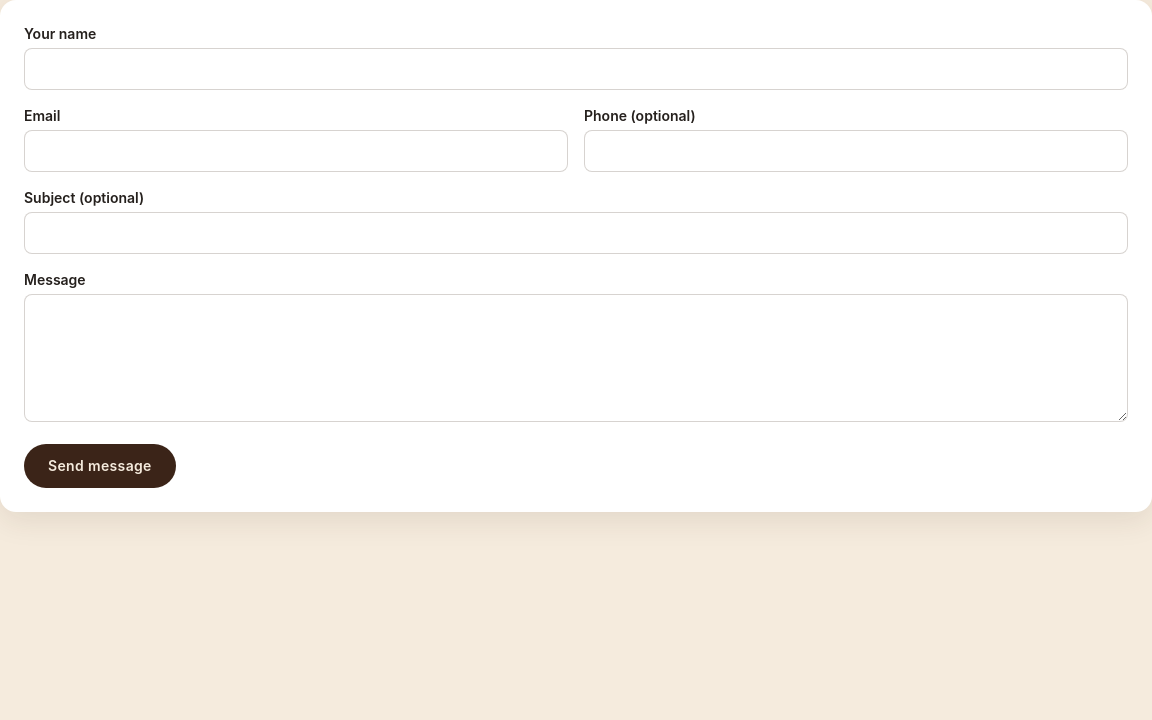
Test: contact form › shows server-side field errors and success message
The width and height of the screenshot is (1152, 720).
In the field labelled "Your name": (576, 69) left=24, top=48, right=1128, bottom=90, type "Ali Khan"
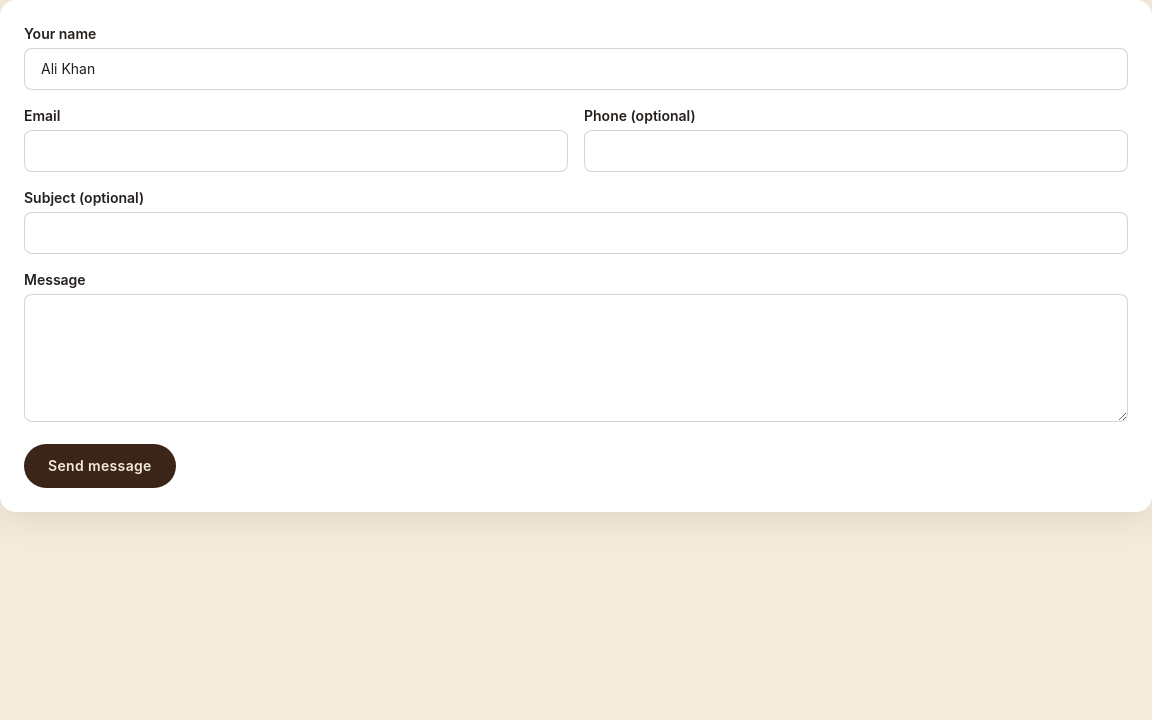
In the field labelled "Email": (296, 151) left=24, top=130, right=568, bottom=172, type "ali@example.com"
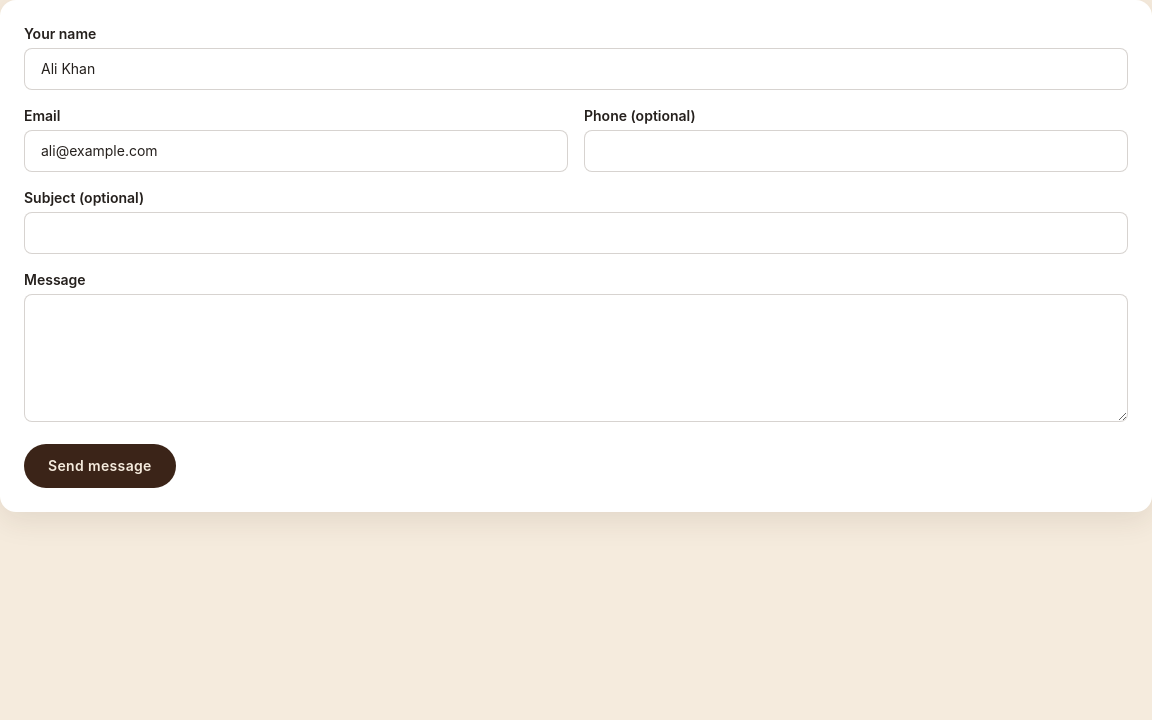
In the text box labelled "Message": (576, 358) left=24, top=294, right=1128, bottom=422, type "short"
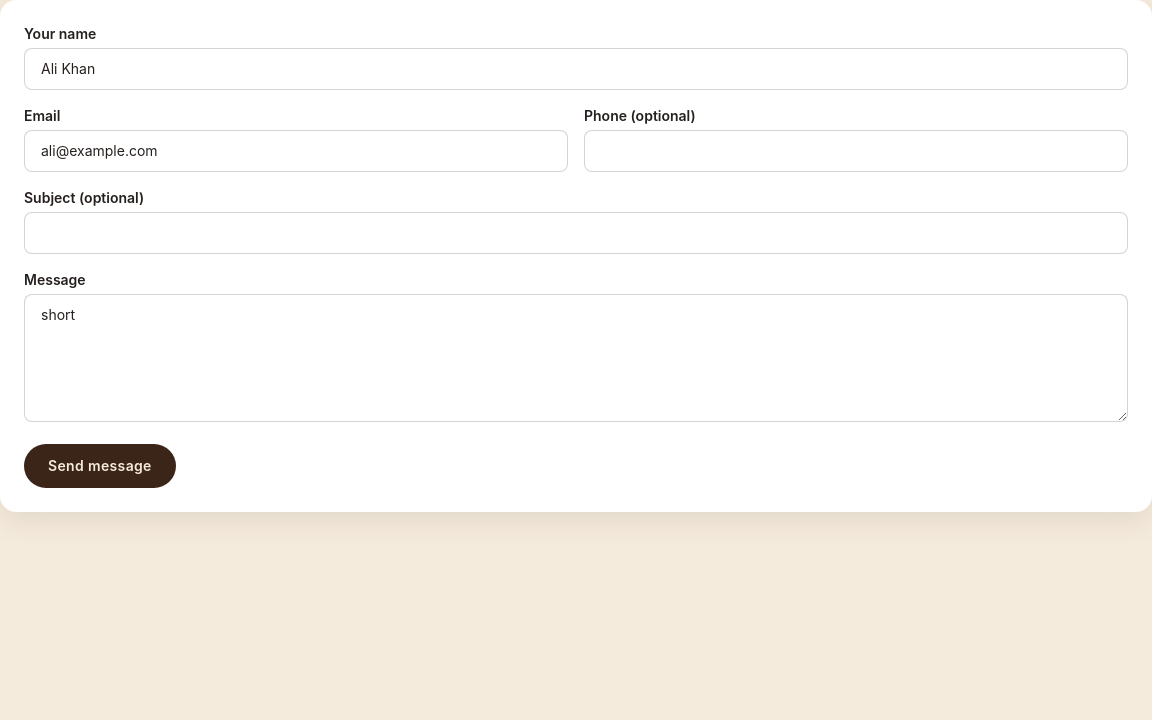
Submit the form
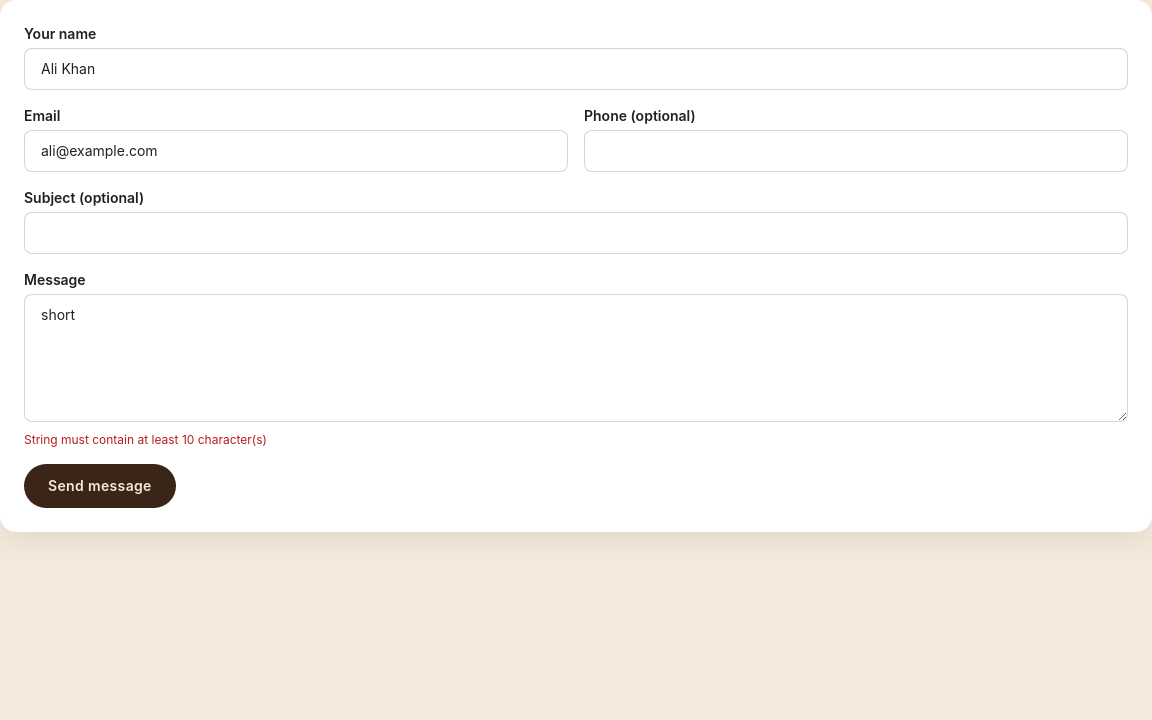
Expected: the message shows "at least 10", left=24, top=432, right=267, bottom=447
Replace the text in the text box labelled "Message" with "Do you deliver to Lahore?": (576, 358) left=24, top=294, right=1128, bottom=422
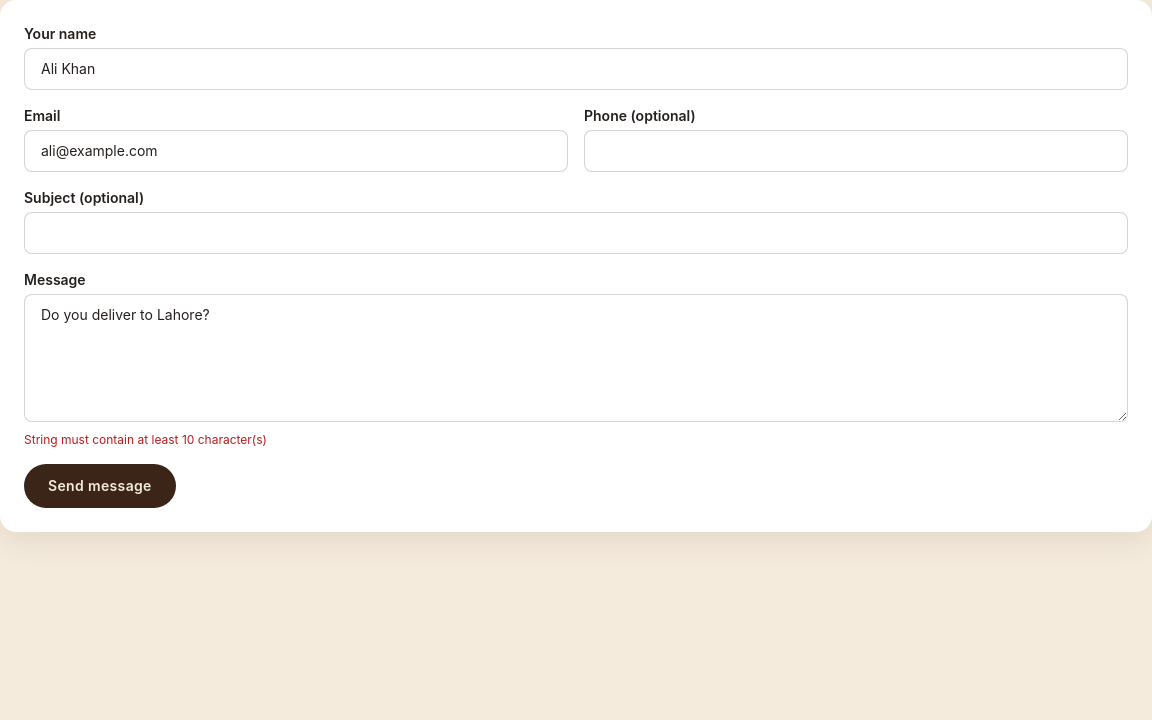
Submit the form
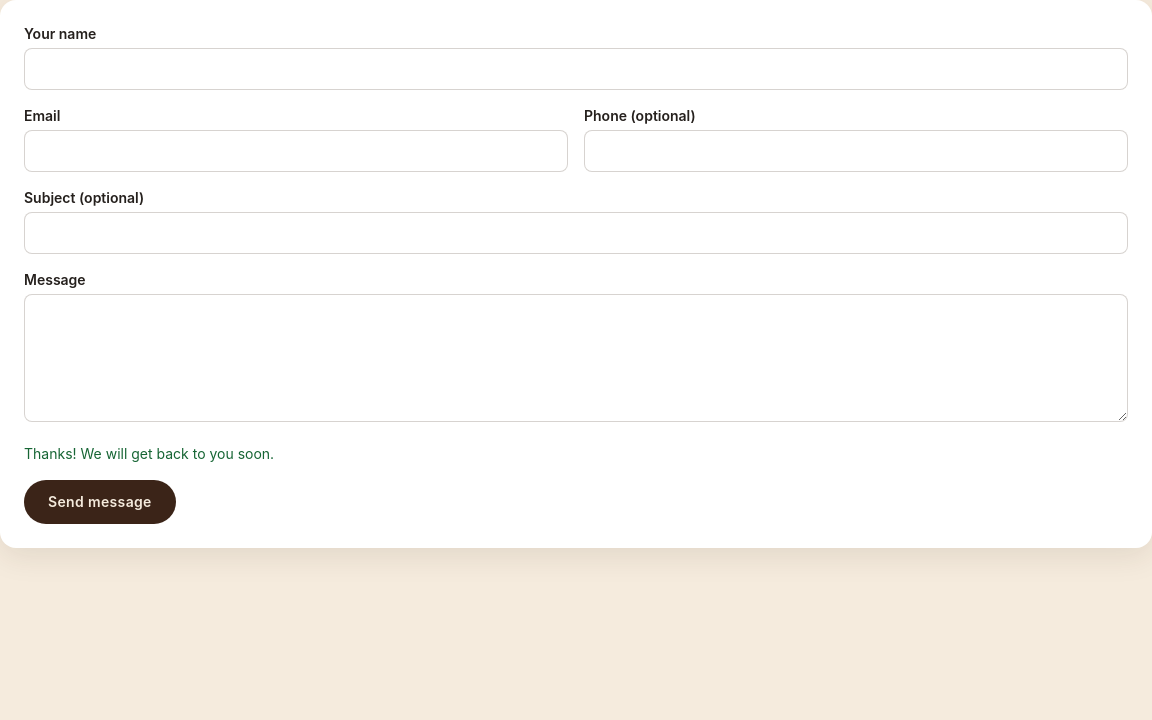
Expected: the message shows "Thanks", left=24, top=445, right=274, bottom=462
